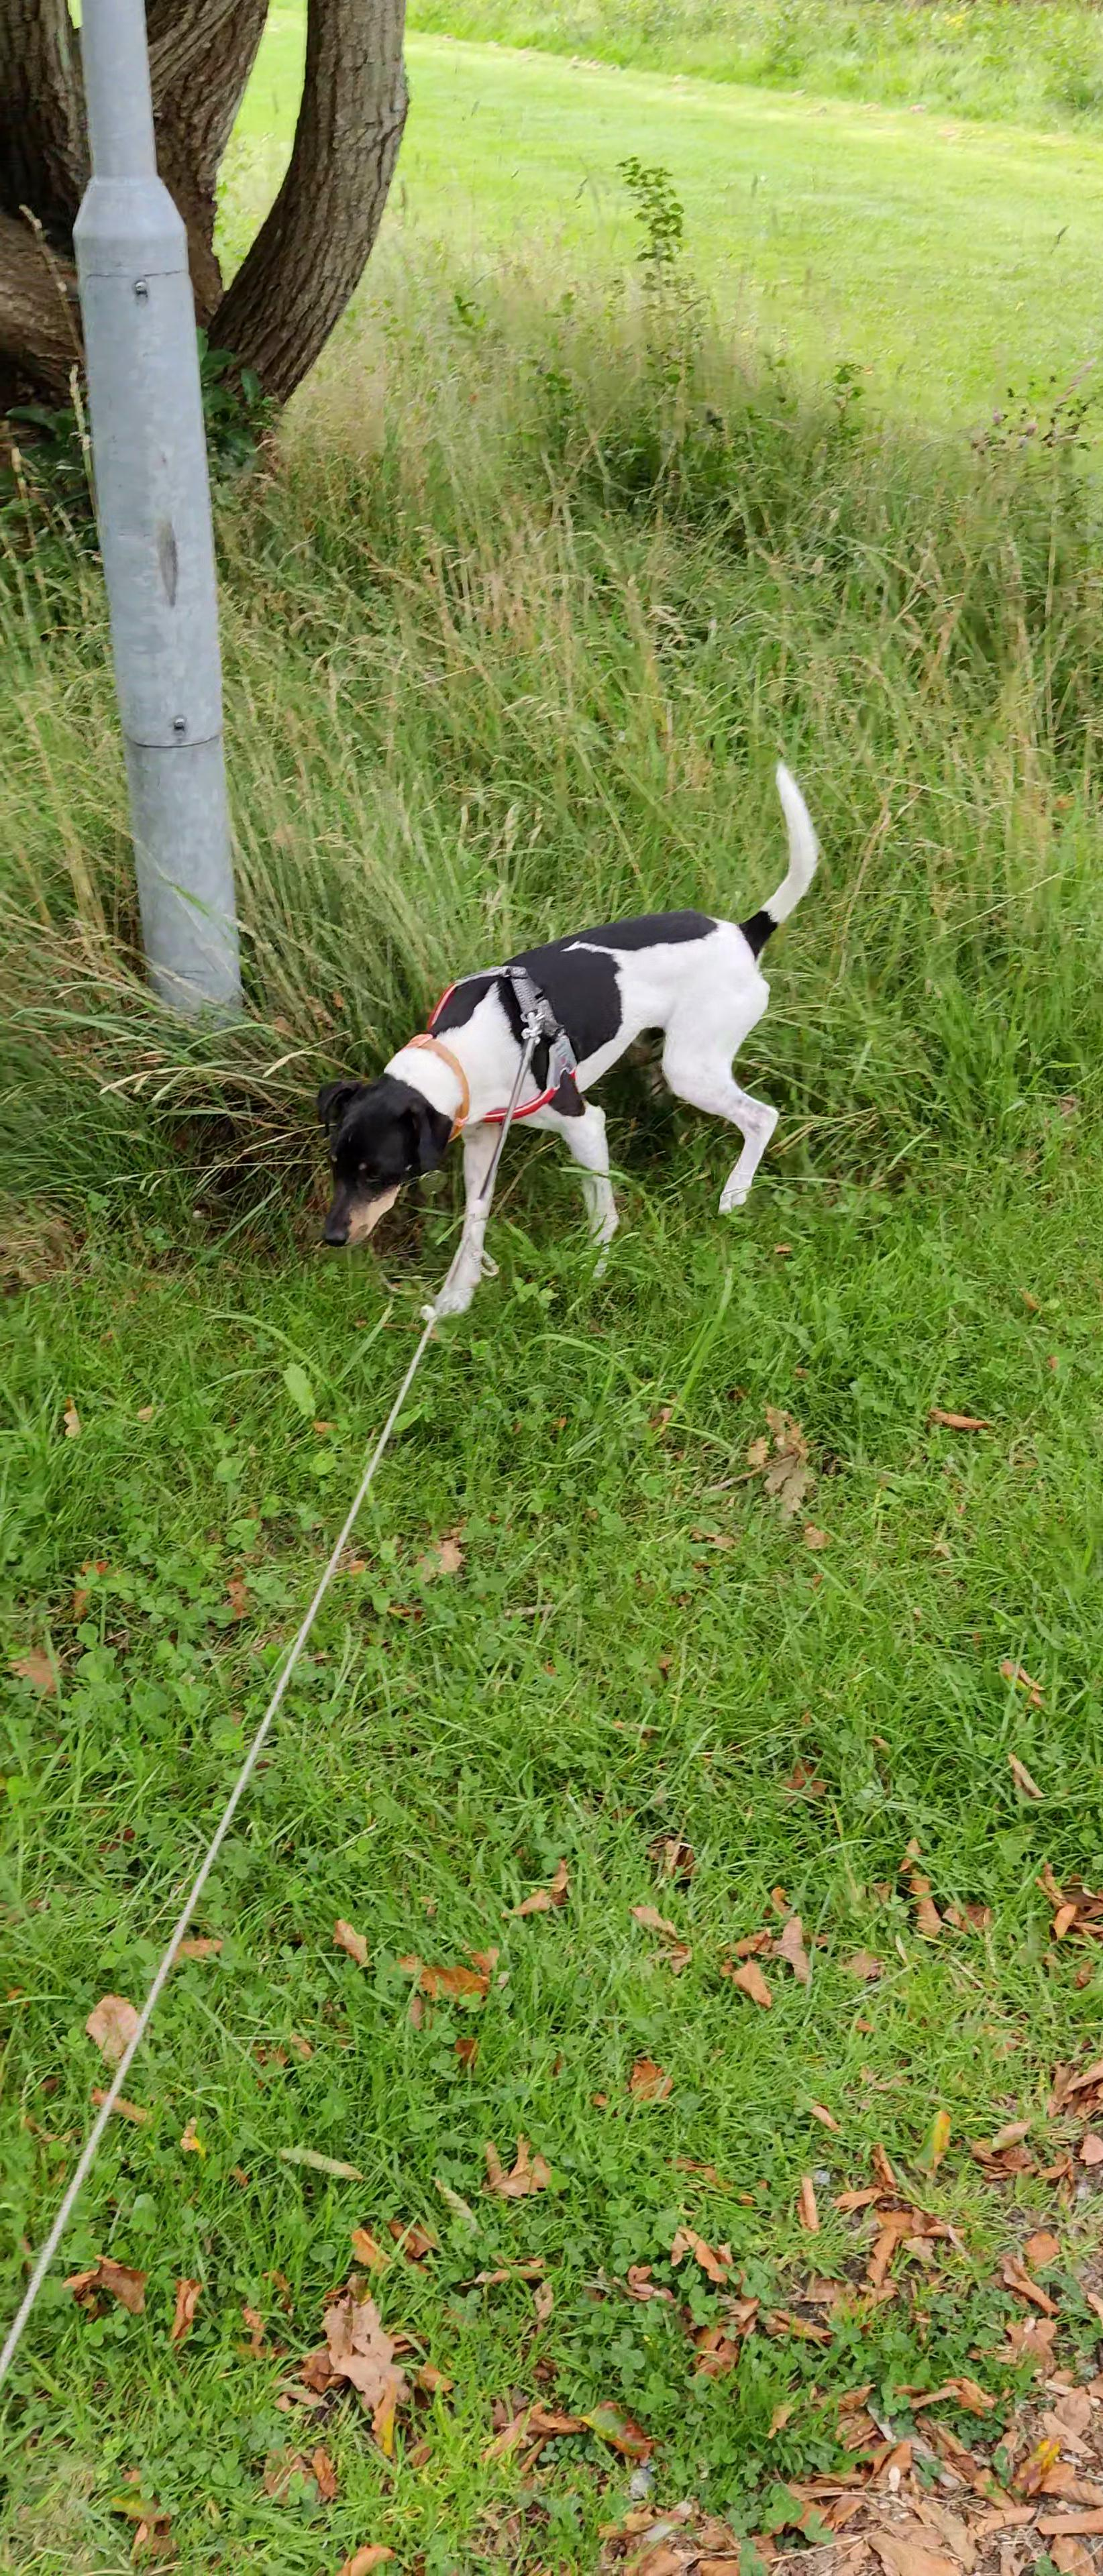Dog: (293, 731, 842, 1331)
